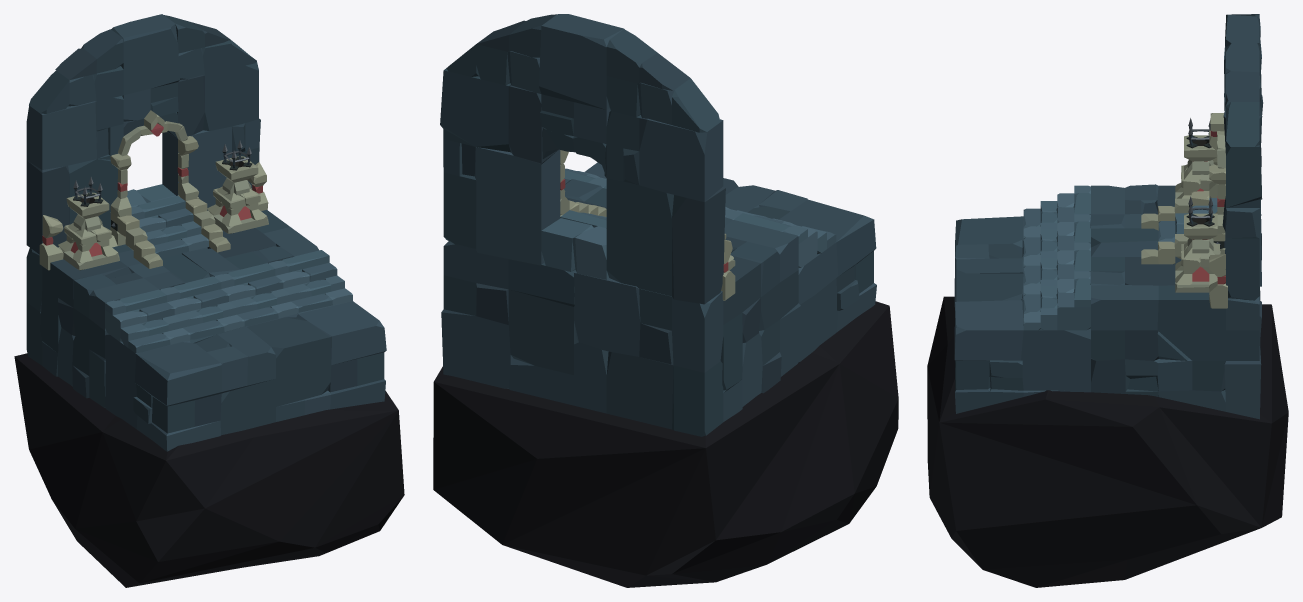
The model's file is platform_entrance.fbx.
3 views of the same model, side by side, from view 1: azimuth 30°, elevation 25°; view 2: azimuth 150°, elevation 25°; view 3: azimuth 270°, elevation 25° (orthographic). The views are drawn at different scales.
Parts seen in each view (by area): view 1: platform_entrance; view 2: platform_entrance; view 3: platform_entrance.
Boxes of the visible parts, x1,y1,x2,y2 form: platform_entrance: [14, 14, 404, 587]; platform_entrance: [433, 14, 898, 587]; platform_entrance: [927, 14, 1288, 587].
Size of the model in its own units: 1041 by 1745 by 1072.
